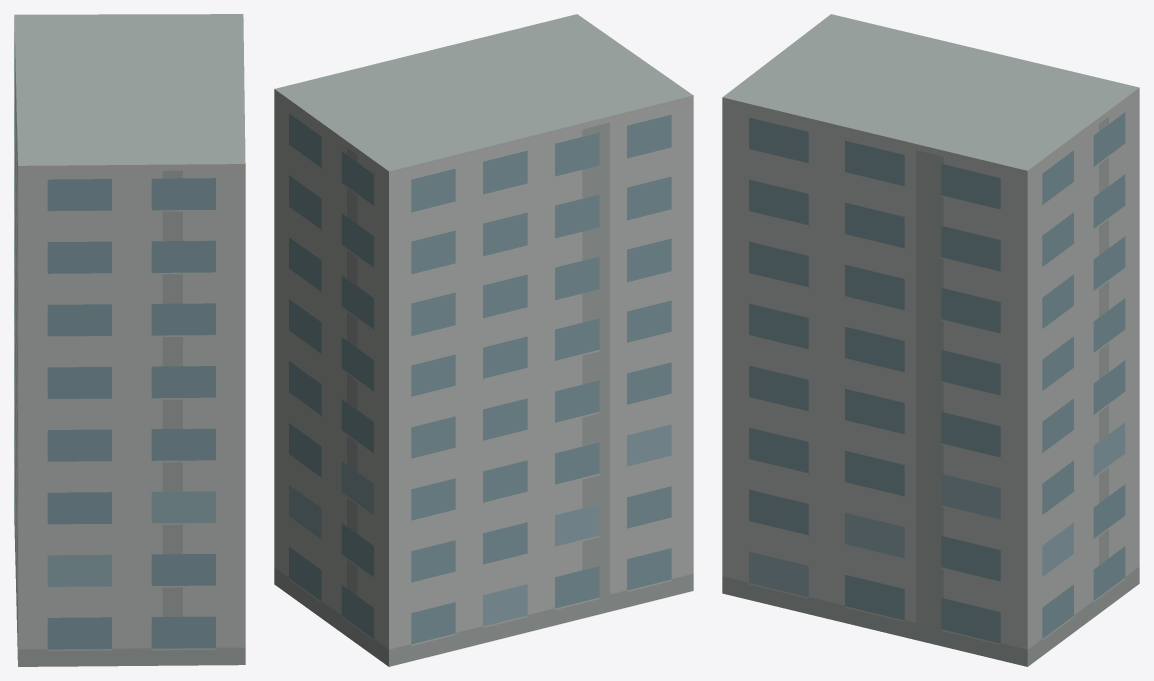
The model's file is survey-upis-32820933.glb.
3 views of the same model, side by side, from view 1: azimuth 30°, elevation 25°; view 2: azimuth 150°, elevation 25°; view 3: azimuth 270°, elevation 25° (orthographic).
Parts seen in each view (by area): view 1: survey-upis-32820933.tmp; view 2: survey-upis-32820933.tmp; view 3: survey-upis-32820933.tmp.
Part boxes in pixels (x1=…): survey-upis-32820933.tmp: x1=14, y1=14, x2=245, y2=666; survey-upis-32820933.tmp: x1=274, y1=14, x2=693, y2=666; survey-upis-32820933.tmp: x1=722, y1=14, x2=1139, y2=666.
Bounding box in the file's own units: 13.36 × 19.7 × 15.03.
